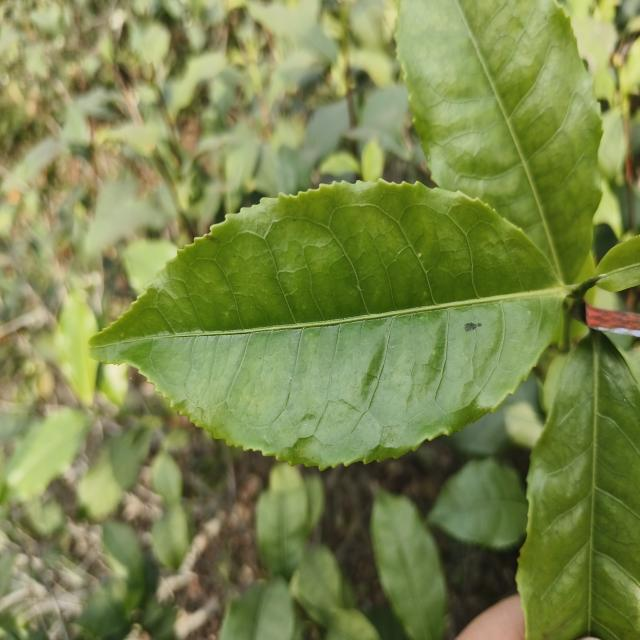Leaf: (90, 181, 568, 467), (396, 0, 602, 283), (517, 331, 640, 640), (371, 490, 446, 640), (428, 458, 527, 549), (6, 407, 89, 501), (449, 376, 544, 458), (245, 0, 336, 66), (256, 464, 308, 579), (55, 293, 98, 406), (347, 84, 410, 159), (219, 578, 295, 640), (167, 52, 225, 115), (292, 546, 344, 612), (78, 444, 123, 520), (123, 239, 177, 295), (305, 99, 349, 162), (102, 521, 143, 584), (151, 504, 189, 570), (596, 236, 640, 291), (326, 609, 380, 640), (152, 452, 182, 506)
